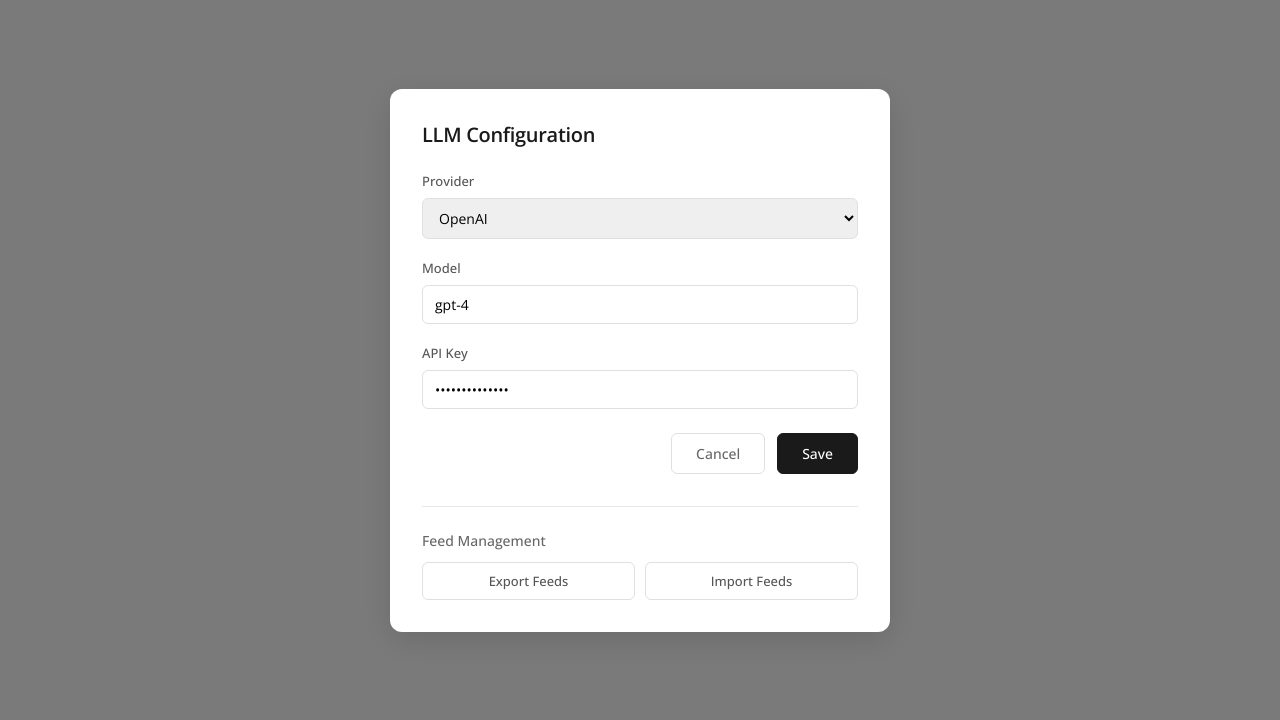
it: SettingsModal › should update baseUrl to default when provider changes
Select "Ollama (Local)" in the dropdown at point(640, 218), box [422,198,858,238]
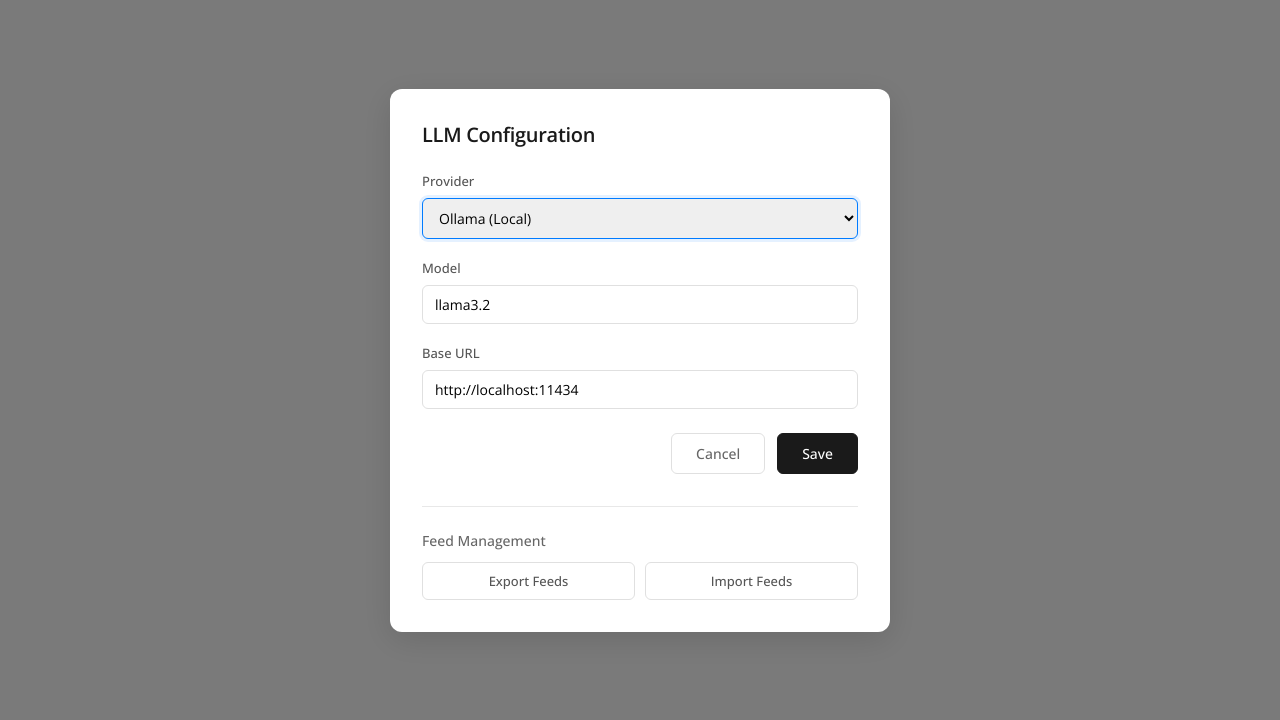
expect the field below "Base URL" holds "http://localhost:11434": met, box [422,370,858,408]
